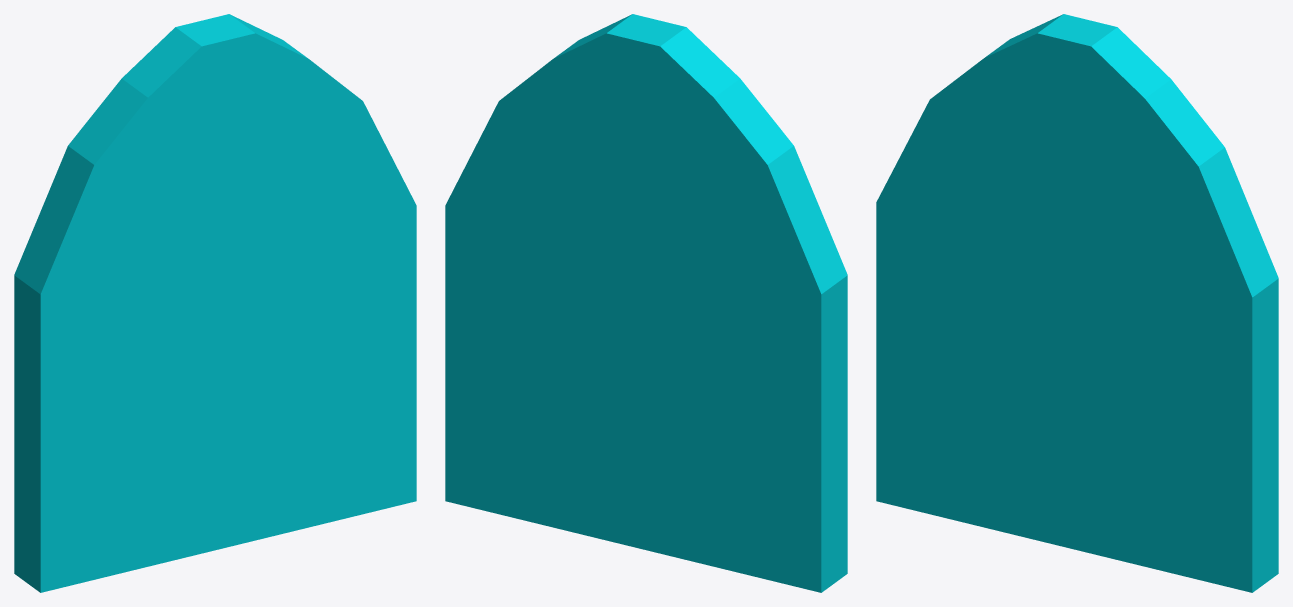
The model's file is portal.fbx.
3 views of the same model, side by side, from view 1: azimuth 30°, elevation 25°; view 2: azimuth 150°, elevation 25°; view 3: azimuth 330°, elevation 25° (orthographic).
Visible parts, largest first — view 1: Cube.001; view 2: Cube.001; view 3: Cube.001.
Part boxes in pixels (x1,y1,x2,y2): Cube.001: (14,14,416,592); Cube.001: (445,14,847,592); Cube.001: (876,14,1278,592).
Size of the model in its own units: 775 by 999 by 94.29.
